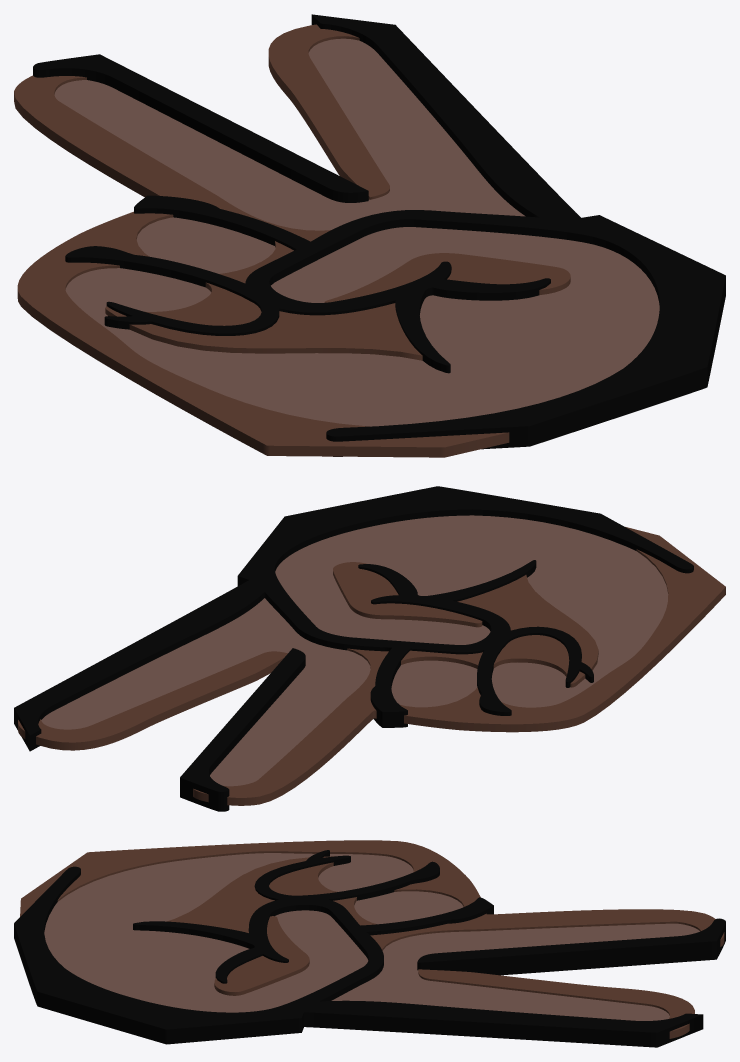
File: emoji_u270c_1f3ff.glb
The picture shows the model from 3 angles, top to bottom: view 1: azimuth 30°, elevation 25°; view 2: azimuth 150°, elevation 25°; view 3: azimuth 270°, elevation 25°; orthographic projection. The views are drawn at different scales.
Visible parts, largest first — view 1: emoji_u270c_1f3ff; view 2: emoji_u270c_1f3ff; view 3: emoji_u270c_1f3ff.
Part boxes in pixels (<box>): emoji_u270c_1f3ff: <box>14,14,725,457</box>; emoji_u270c_1f3ff: <box>14,486,725,811</box>; emoji_u270c_1f3ff: <box>14,840,725,1047</box>.
Size of the model in its own units: 0.0228 by 0.001 by 0.0349.
